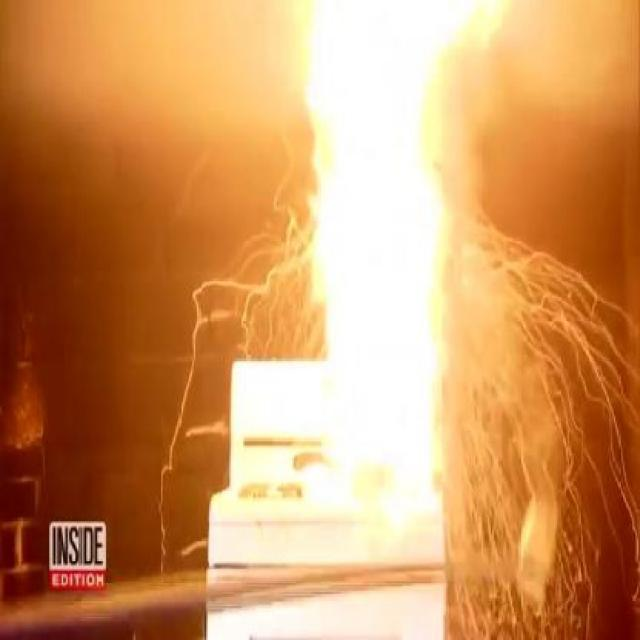fire: (280, 2, 482, 504)
